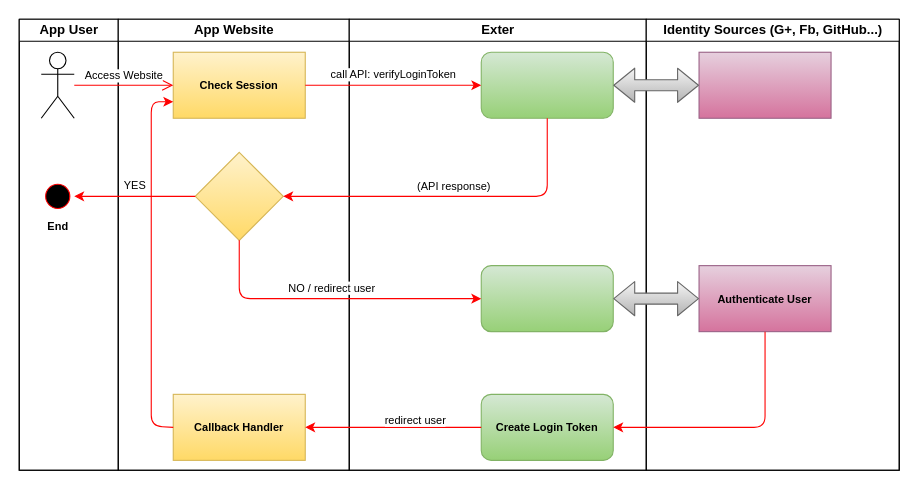
The diagram is 919 pixels wide and 490 high, and some of its shapes have lost their labels. The centre of each missing label's shape, as x and y in pixels:
"API: verifyLoginToken" belongs at (546,84).
"Login Page" belongs at (546,298).
"valid session?" belongs at (238,195).
"Verify Login Token" belongs at (764,84).
